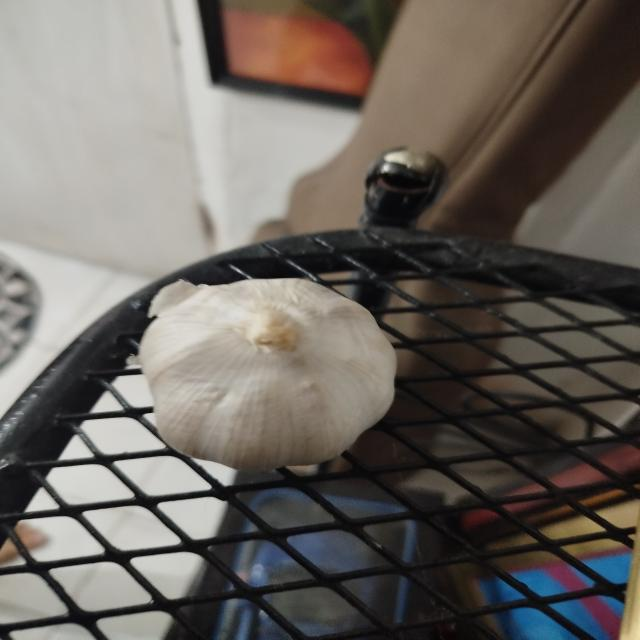garlic: (136, 276, 398, 472)
